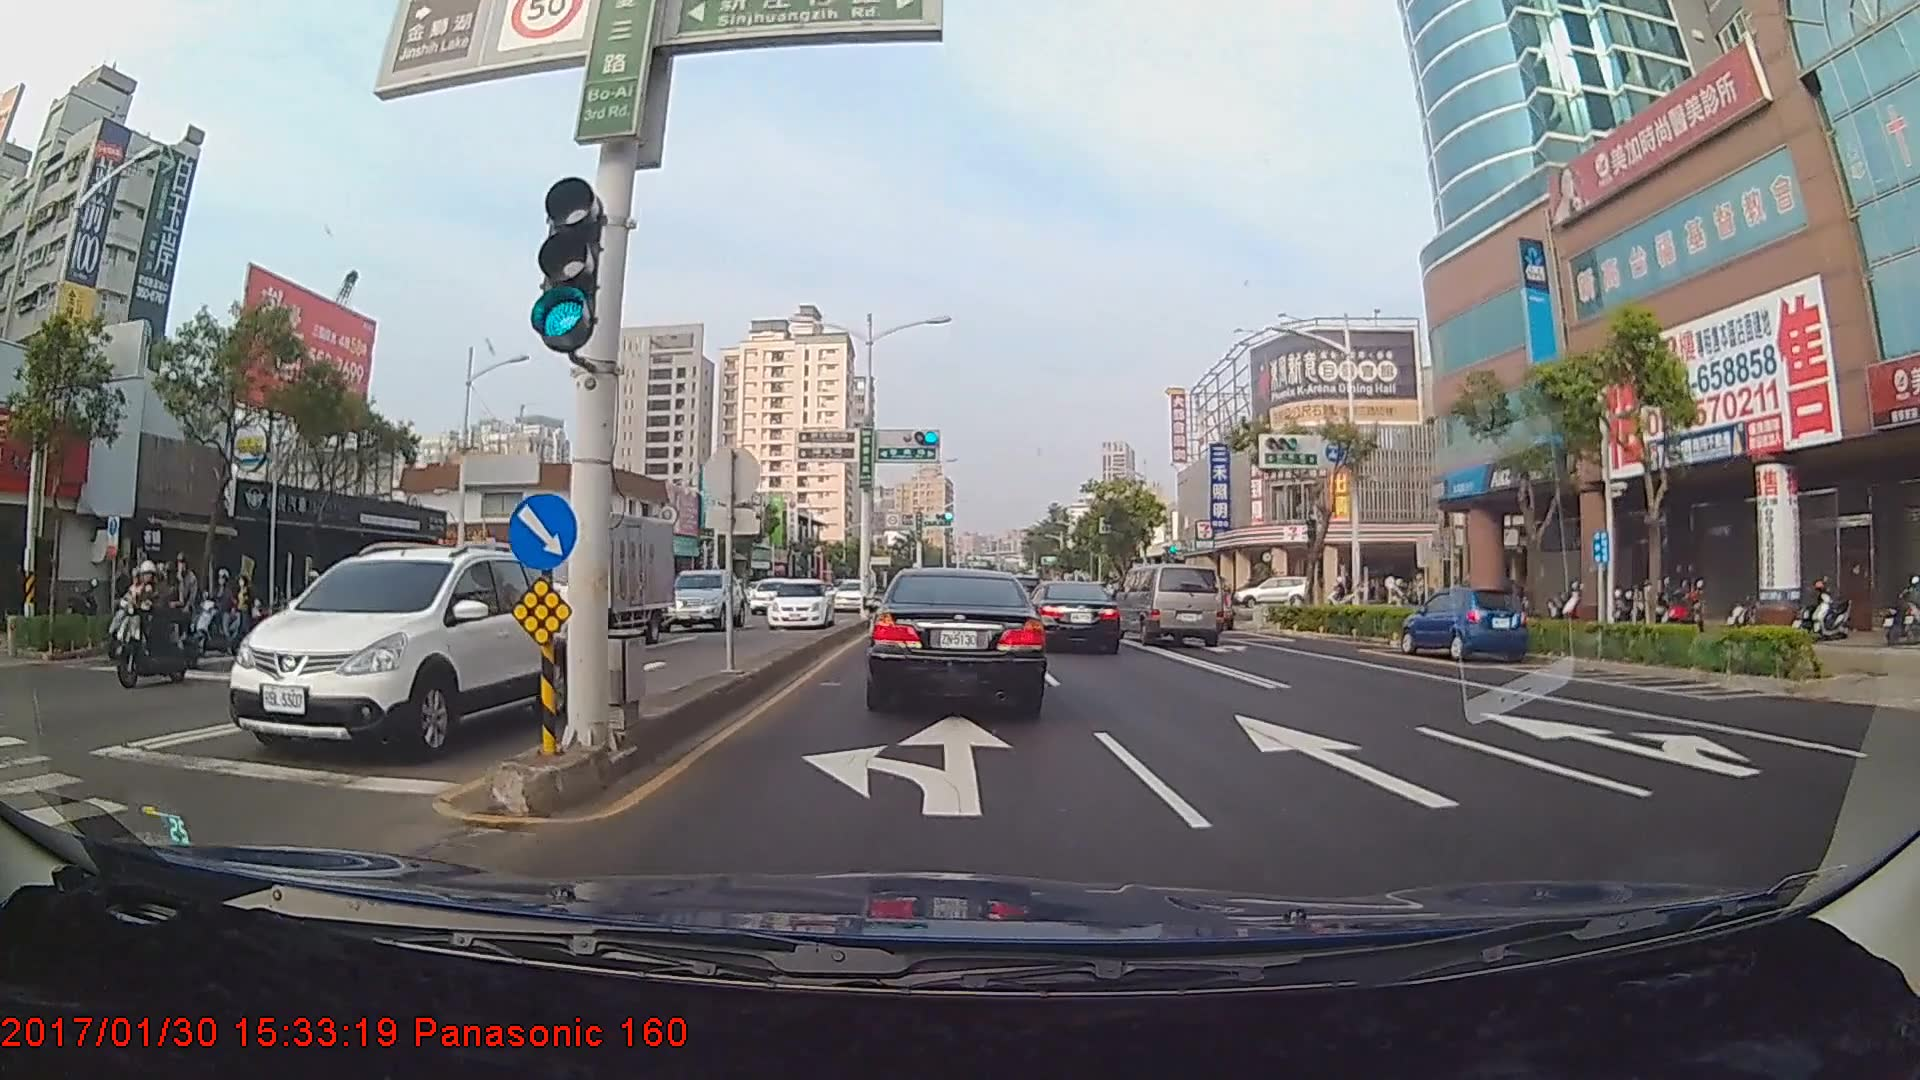rider: (110, 559, 195, 699), (134, 553, 219, 670)
vehicle: (240, 545, 553, 756), (869, 563, 1046, 713), (509, 510, 674, 657), (1398, 583, 1529, 663), (1114, 562, 1226, 648), (1031, 581, 1122, 654), (655, 566, 741, 634), (766, 574, 832, 631), (1236, 577, 1295, 608), (747, 579, 794, 615), (832, 576, 867, 615)
